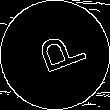P_W: (25, 29, 85, 81)
